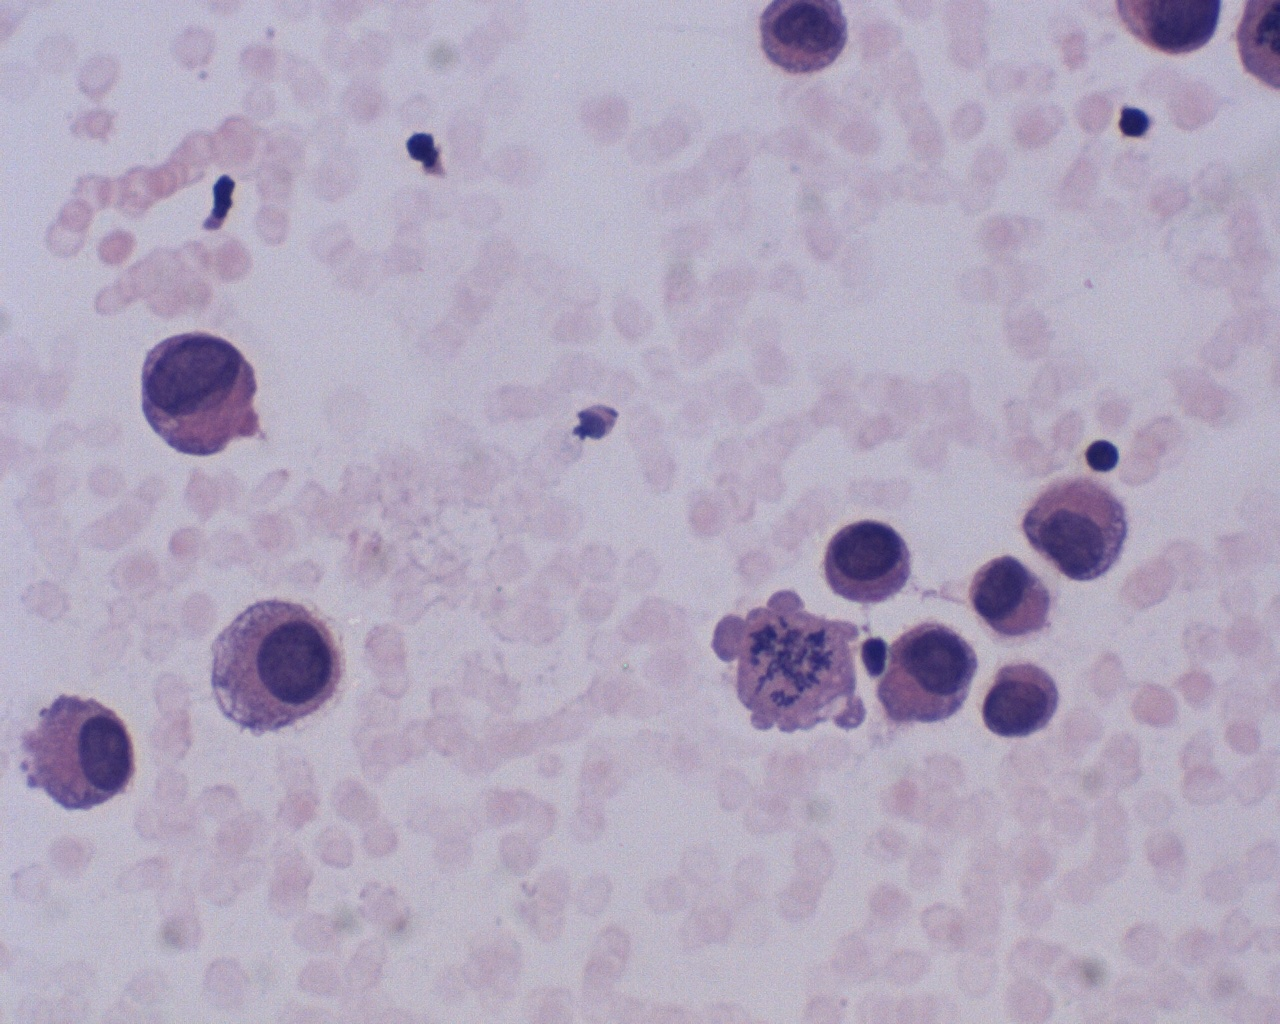ab: (127, 316, 280, 460), (1017, 462, 1134, 582), (870, 621, 980, 737), (812, 514, 926, 611), (977, 653, 1069, 743), (965, 549, 1055, 637), (757, 1, 850, 83)
lymph: (1079, 434, 1127, 476)
meso: (197, 587, 356, 736), (17, 685, 165, 829)
